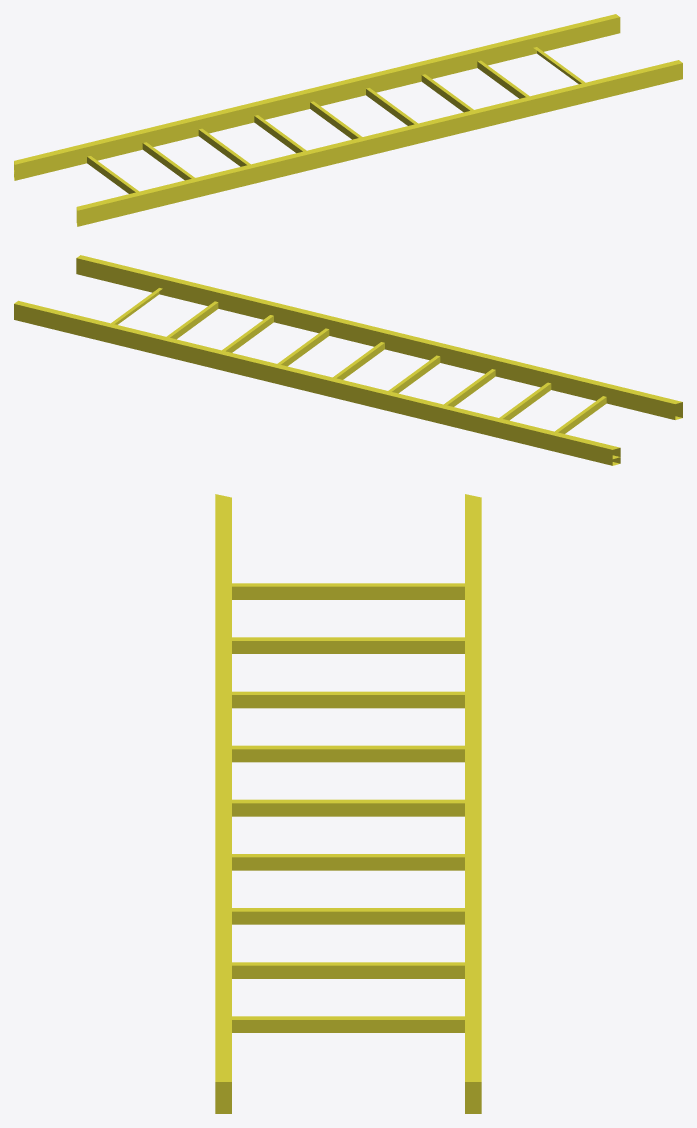
File: straight_path.fbx
3 renders of one model, top to bottom at view 1: azimuth 30°, elevation 25°; view 2: azimuth 150°, elevation 25°; view 3: azimuth 270°, elevation 25°, orthographic. The views are drawn at different scales.
Visible parts, largest first — view 1: Circle.002; view 2: Circle.002; view 3: Circle.002.
Boxes of the visible parts, x1=… form: Circle.002: x1=14, y1=14, x2=682, y2=226; Circle.002: x1=14, y1=255, x2=682, y2=465; Circle.002: x1=215, y1=494, x2=481, y2=1113.
Bounding box in the file's own units: 334 × 8.5 × 64.02.
